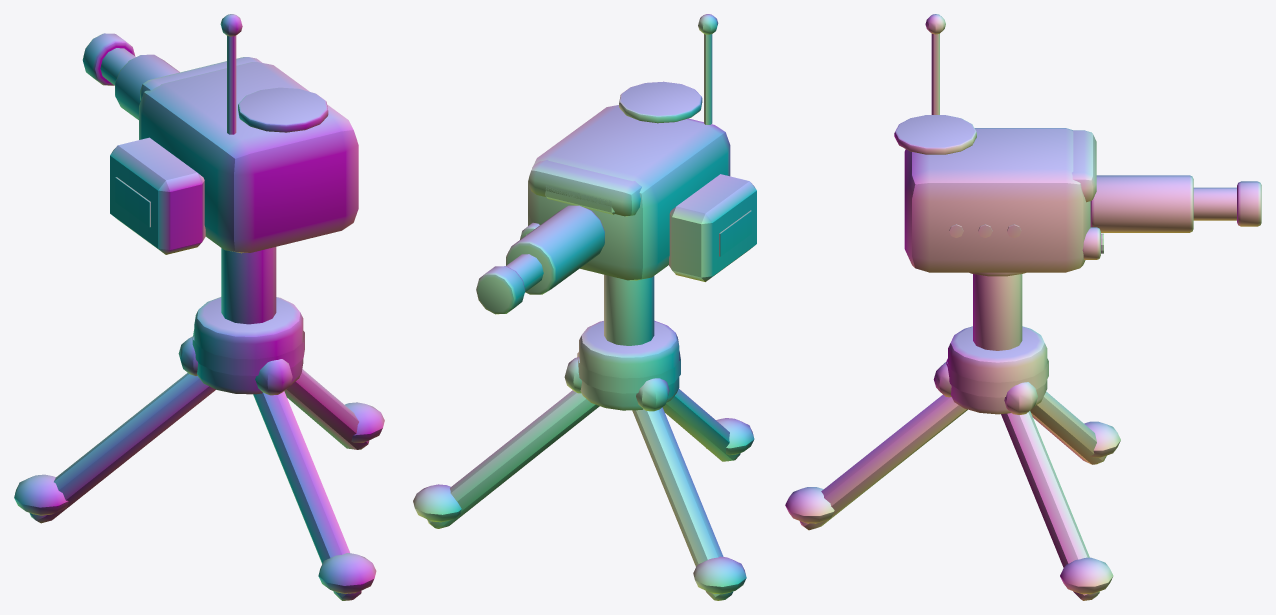
Rendered from gad_sentry.glb.
3 renders of one model, left to right at view 1: azimuth 30°, elevation 25°; view 2: azimuth 150°, elevation 25°; view 3: azimuth 270°, elevation 25°, orthographic. The views are drawn at different scales.
Visible parts, largest first — view 1: head, base; view 2: head, base; view 3: head, base.
Boxes of the visible parts, x1=… form: head: x1=82, y1=14, x2=358, y2=254; base: x1=14, y1=247, x2=384, y2=600; head: x1=476, y1=14, x2=756, y2=314; base: x1=413, y1=274, x2=754, y2=600; head: x1=894, y1=14, x2=1261, y2=272; base: x1=785, y1=272, x2=1120, y2=600.
Size of the model in its own units: 0.1806 by 0.264 by 0.231.
